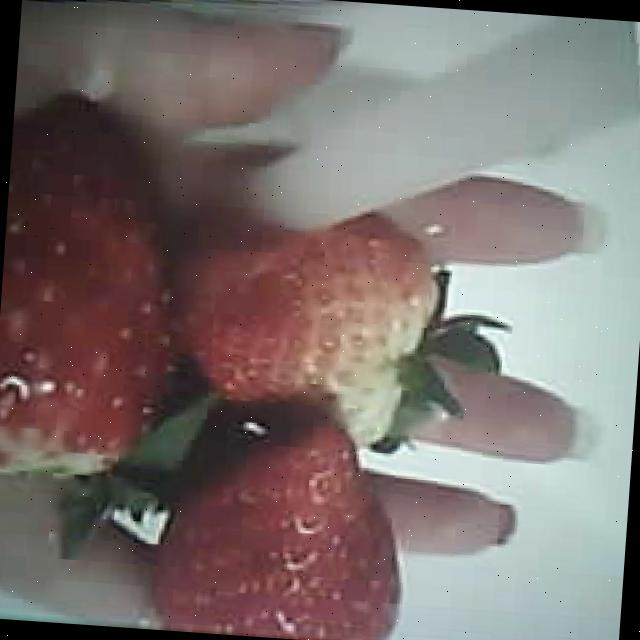strawberry: (0, 90, 192, 480), (151, 403, 412, 640)
